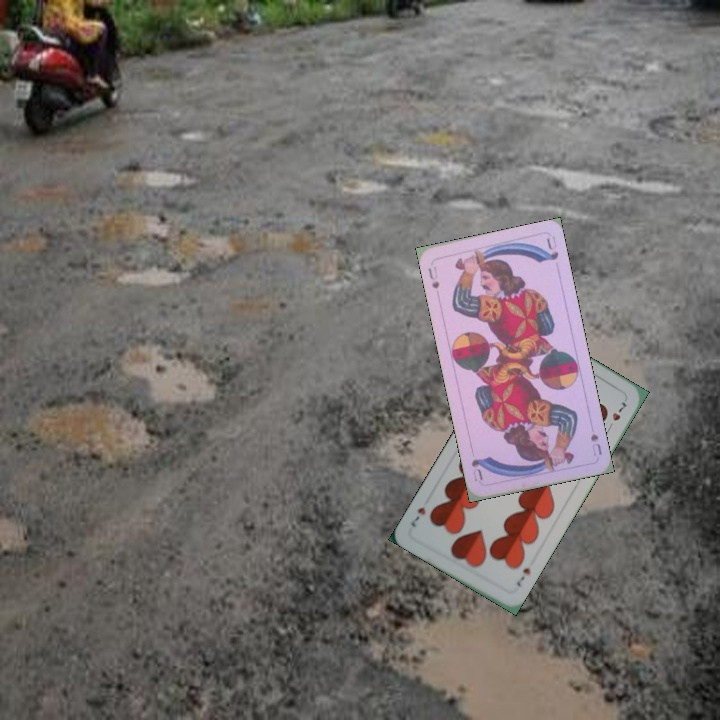H7: (513, 564, 533, 589)
SU: (424, 262, 442, 292), (586, 430, 605, 458)
